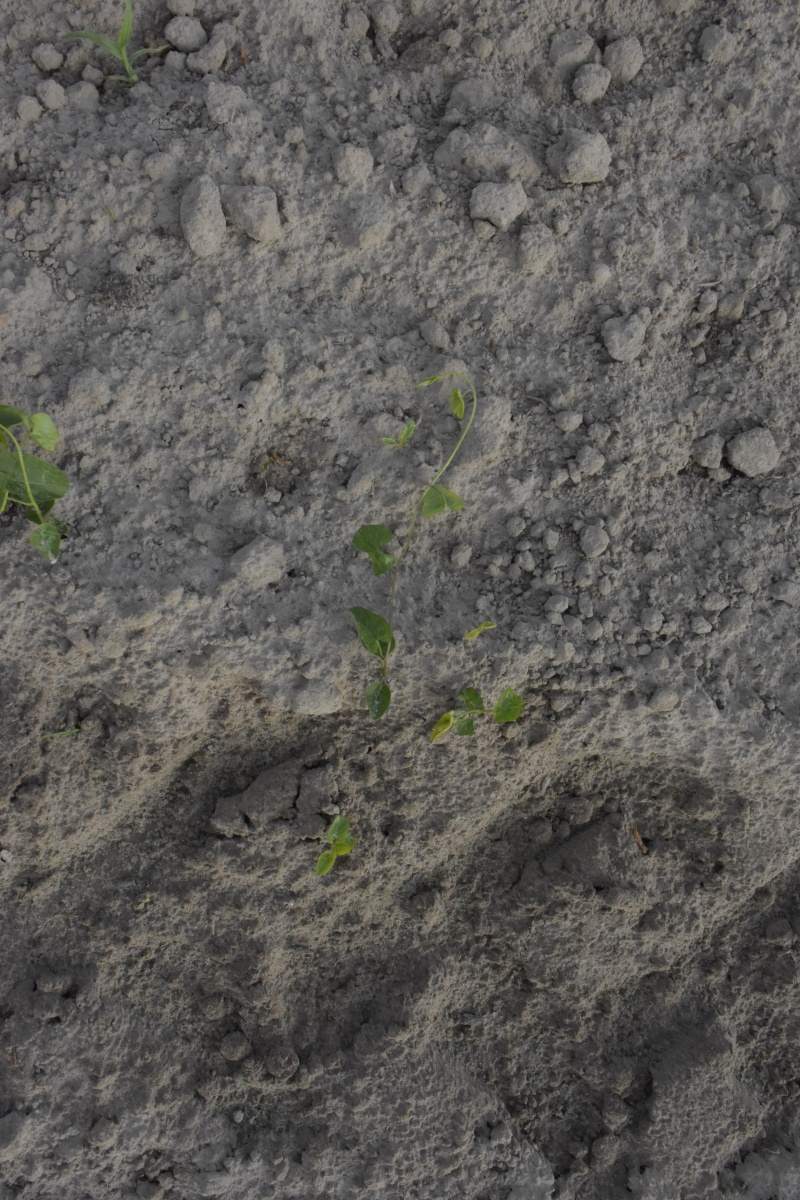field bindweed: (342, 358, 479, 719), (1, 404, 61, 559), (428, 686, 533, 757), (311, 813, 360, 878)
